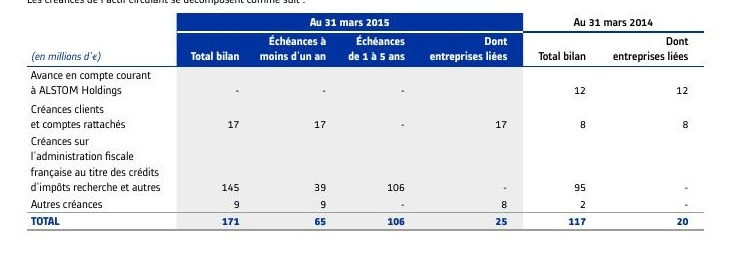table: (0, 0, 729, 255)
